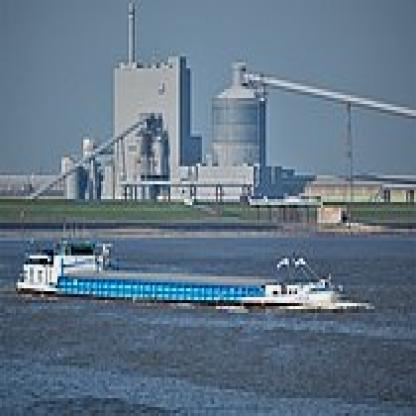Tanker: (16, 226, 370, 325)
